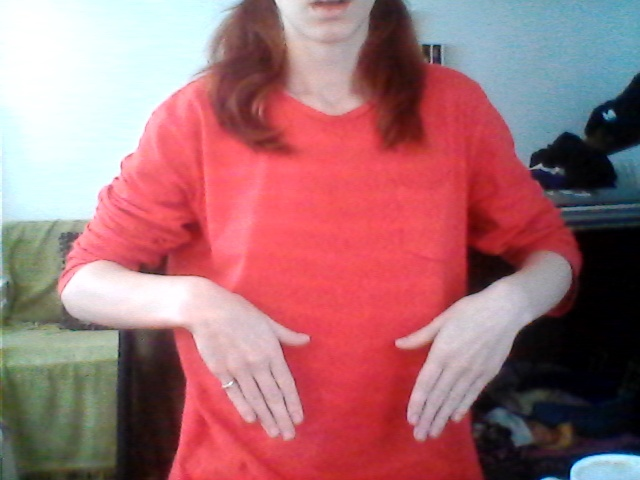zena: (166, 251, 489, 432)
